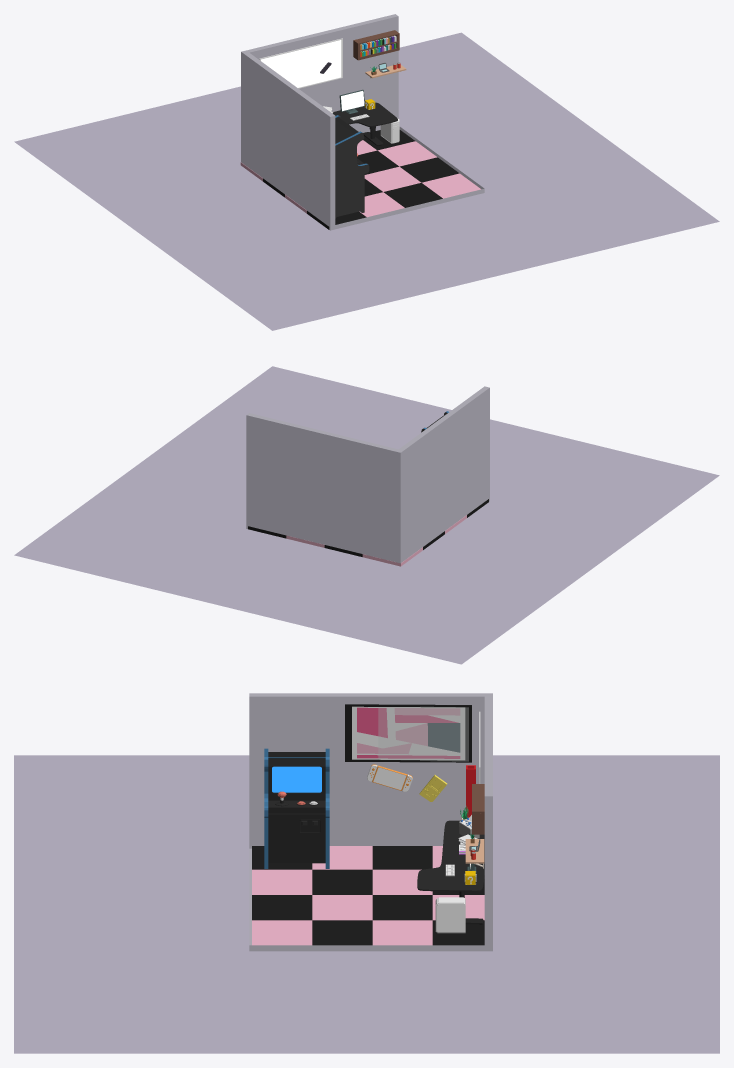
File: please.gltf
3 renders of one model, top to bottom at view 1: azimuth 30°, elevation 25°; view 2: azimuth 150°, elevation 25°; view 3: azimuth 270°, elevation 25°, orthographic. The views are drawn at different scales.
Visible parts, largest first — view 1: Plane (×2), group202025954, White_board_Cube.045, ArcadeMachine_Cube002-Mesh_4, Plane001_Plane002; view 2: Plane (×2), group202025954; view 3: Plane (×2), group202025954, ArcadeMachine_Cube002-Mesh, Node-Mesh_6, Node-Mesh_1, Plane001_Plane002, Node-Mesh_2, Node-Mesh_3, Node-Mesh, GameScreen_Plane, ArcadeMachine_Cube002-Mesh_1, PC (+2 smaller).
Boxes of the visible parts, box(x1,y1,x2,y2) form: Plane (×2): box(14, 14, 719, 330); group202025954: box(240, 130, 480, 229); White_board_Cube.045: box(259, 38, 342, 88); ArcadeMachine_Cube002-Mesh_4: box(335, 116, 369, 218); Plane001_Plane002: box(333, 102, 397, 126); Plane (×2): box(14, 366, 719, 664); group202025954: box(248, 499, 488, 566); Plane (×2): box(14, 693, 719, 1053); group202025954: box(252, 846, 484, 945); ArcadeMachine_Cube002-Mesh: box(268, 752, 325, 863); Node-Mesh_6: box(378, 707, 468, 761); Node-Mesh_1: box(352, 706, 465, 760); Plane001_Plane002: box(417, 820, 484, 891); Node-Mesh_2: box(357, 707, 460, 758); Node-Mesh_3: box(357, 708, 460, 753); Node-Mesh: box(345, 704, 471, 762); GameScreen_Plane: box(272, 766, 321, 792); ArcadeMachine_Cube002-Mesh_1: box(264, 748, 329, 868); PC: box(435, 897, 465, 933).
Size of the model in its own units: 30 by 7.41 by 30.
